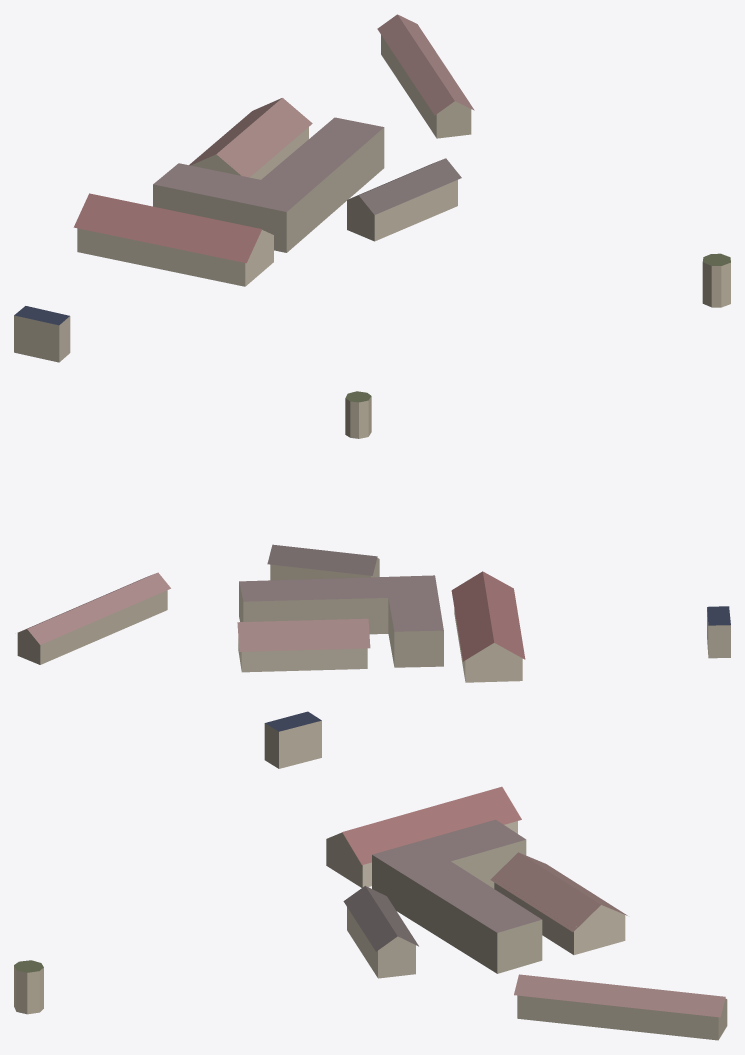
3 renders of one model, top to bottom at view 1: azimuth 30°, elevation 25°; view 2: azimuth 150°, elevation 25°; view 3: azimuth 270°, elevation 25°, orthographic. The views are drawn at different scales.
Visible parts, largest first — view 1: tuile; view 2: tuile; view 3: tuile.
Boxes of the visible parts, <box> form: tuile: <box>14,14,730,362</box>; tuile: <box>17,391,730,682</box>; tuile: <box>14,711,727,1040</box>.
Bounding box in the file's own units: 84.83 × 7.62 × 86.33.
